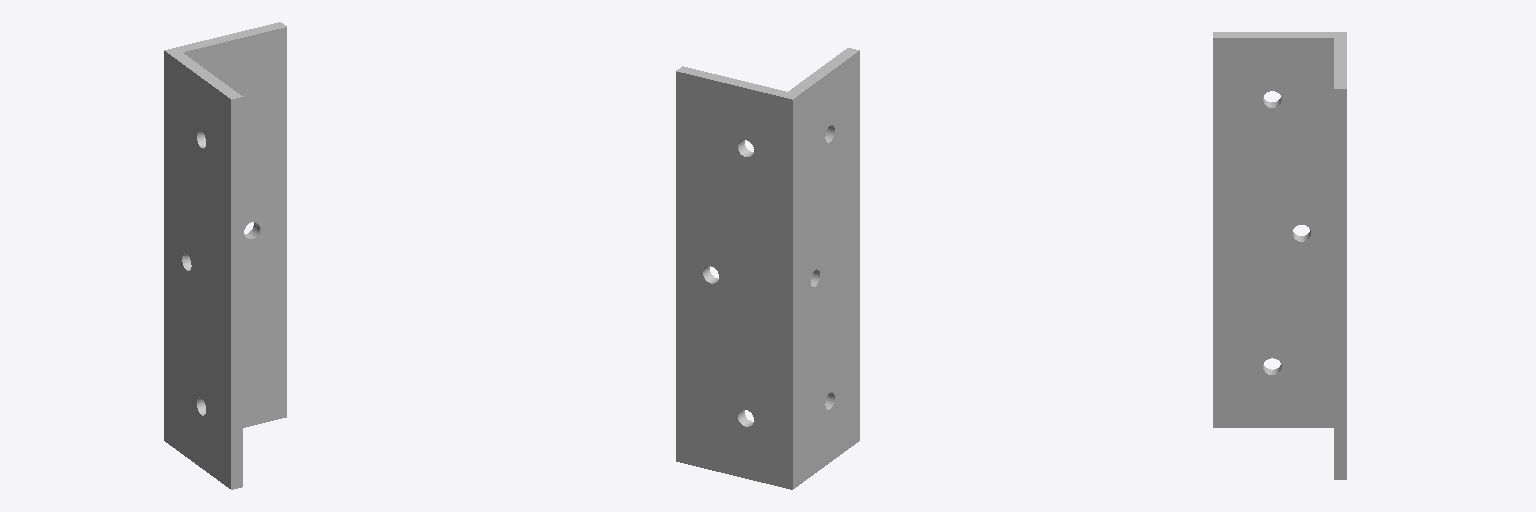
File: body_Cap_Mount_Cap_Mount.obj
The picture shows the model from 3 angles: view 1: azimuth 30°, elevation 25°; view 2: azimuth 150°, elevation 25°; view 3: azimuth 270°, elevation 25°; orthographic projection.
Bounding box in the file's own units: 0.0318 × 0.1016 × 0.0318.